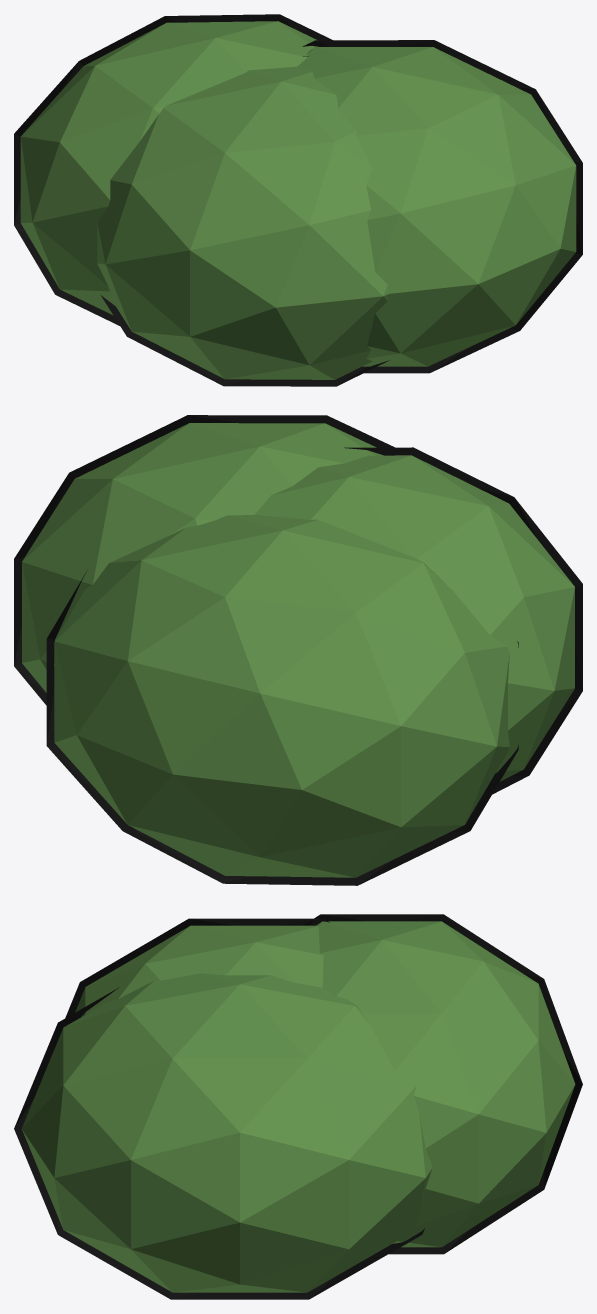
Rendered from Cali_2.fbx.
3 renders of one model, top to bottom at view 1: azimuth 30°, elevation 25°; view 2: azimuth 150°, elevation 25°; view 3: azimuth 270°, elevation 25°, orthographic. The views are drawn at different scales.
Visible parts, largest first — view 1: Cali_2; view 2: Cali_2; view 3: Cali_2.
Part boxes in pixels (x1,y1,x2,y2): Cali_2: [14, 14, 582, 386]; Cali_2: [14, 415, 582, 885]; Cali_2: [14, 914, 582, 1299].
Bounding box in the file's own units: 1.48 × 0.8775 × 1.5.
